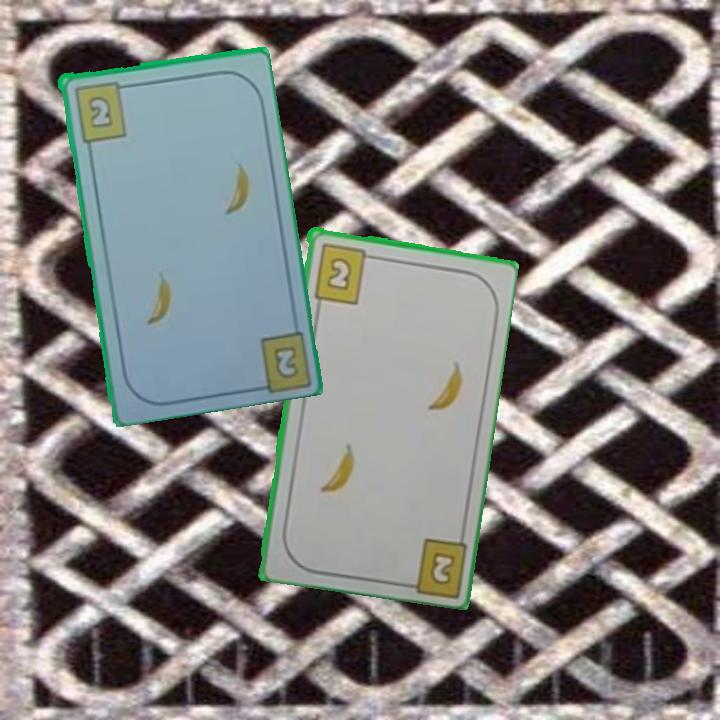2b: (310, 239, 378, 306), (70, 77, 131, 144), (426, 548, 458, 588), (269, 342, 299, 381)
